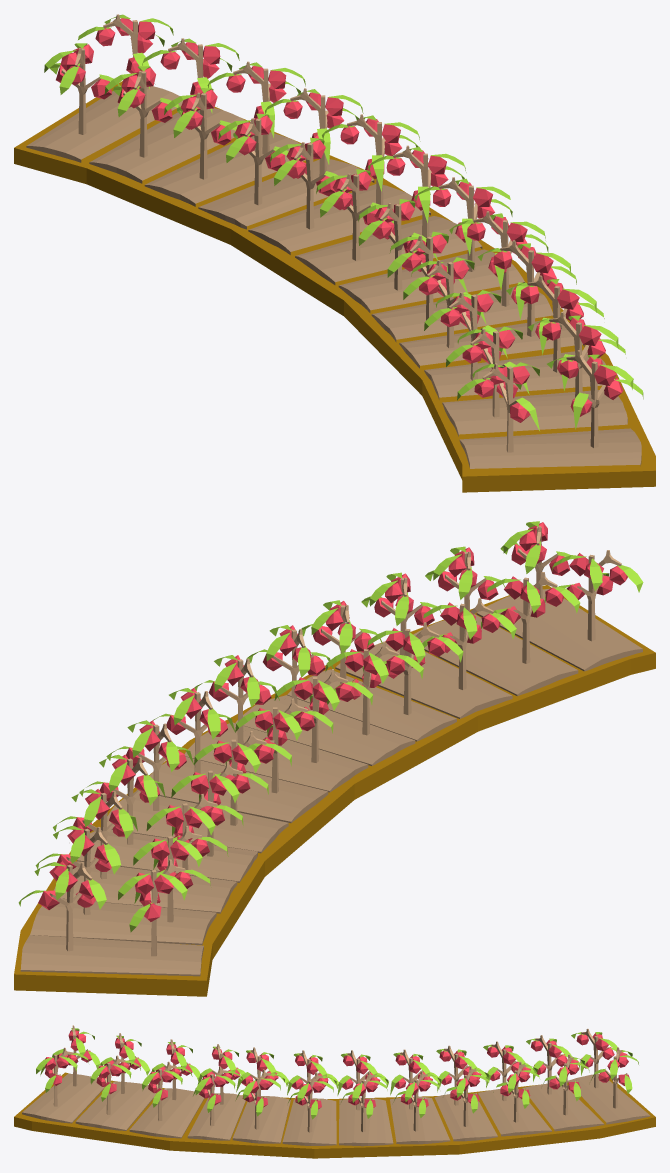
3 views of the same model, one above another, from view 1: azimuth 30°, elevation 25°; view 2: azimuth 150°, elevation 25°; view 3: azimuth 270°, elevation 25° (orthographic). The views are drawn at different scales.
Visible parts, largest first — view 1: Cylinder.051, Vert.034, Vert.033, Vert.028, Vert.013, Vert.006, Vert.022, Vert.030, Vert.020, Vert.015, Vert.019, Vert.017 (+13 smaller); view 2: Cylinder.051, Vert.006, Vert.031, Vert.033, Vert.012, Vert.025, Vert.021, Vert.029, Vert.023, Vert.024, Vert.022, Vert.026 (+13 smaller); view 3: Cylinder.051, Vert.013, Vert.006, Vert.034, Vert.032, Vert.030, Vert.015, Vert.020, Vert.028, Vert.016, Vert.022, Vert.018 (+13 smaller).
Part boxes in pixels (<box>): Cylinder.051: <box>14,81,655,492</box>; Vert.034: <box>547,350,643,447</box>; Vert.033: <box>457,362,539,452</box>; Vert.028: <box>478,240,576,336</box>; Vert.013: <box>104,66,181,157</box>; Vert.006: <box>44,43,119,134</box>; Vert.022: <box>368,145,466,237</box>; Vert.030: <box>506,275,604,372</box>; Vert.020: <box>322,114,420,204</box>; Vert.015: <box>164,88,237,179</box>; Vert.019: <box>270,137,348,229</box>; Vert.017: <box>218,113,288,205</box>; Cylinder.051: <box>14,585,655,996</box>; Vert.006: <box>118,859,211,956</box>; Vert.031: <box>481,572,580,663</box>; Vert.033: <box>544,550,643,641</box>; Vert.012: <box>18,861,106,951</box>; Vert.025: <box>325,641,423,735</box>; Vert.021: <box>235,698,333,793</box>; Vert.029: <box>422,598,516,689</box>; Vert.023: <box>274,669,372,762</box>; Vert.024: <box>194,655,279,745</box>; Vert.022: <box>153,688,235,773</box>; Vert.026: <box>246,625,334,704</box>; Cylinder.051: <box>14,1072,655,1158</box>; Vert.013: <box>526,1035,579,1094</box>; Vert.006: <box>571,1028,617,1088</box>; Vert.034: <box>36,1047,88,1106</box>; Vert.032: <box>90,1055,140,1114</box>; Vert.030: <box>142,1061,192,1120</box>; Vert.015: <box>483,1041,534,1101</box>; Vert.020: <box>393,1071,440,1131</box>; Vert.028: <box>193,1066,242,1126</box>; Vert.016: <box>493,1061,539,1122</box>; Vert.022: <box>341,1071,388,1131</box>; Vert.018: <box>445,1066,489,1126</box>.
Bounding box in the file's own units: 1700 × 709 × 6029.
